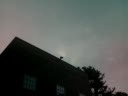window: (23, 73, 36, 90), (57, 85, 64, 96)
